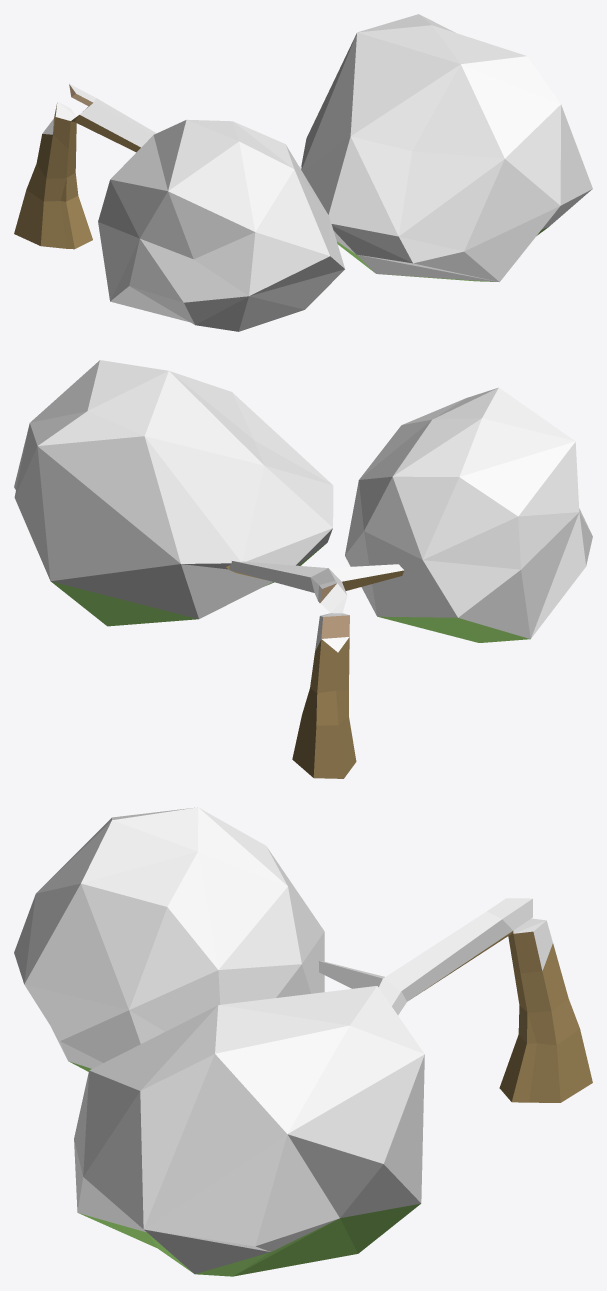
Rendered from Oak_Tree_crk_l_Snow_BT_04.fbx.
3 views of the same model, one above another, from view 1: azimuth 30°, elevation 25°; view 2: azimuth 150°, elevation 25°; view 3: azimuth 270°, elevation 25° (orthographic). The views are drawn at different scales.
Parts seen in each view (by area): view 1: Oak_Tree_crk_l_Snow_BT_04; view 2: Oak_Tree_crk_l_Snow_BT_04; view 3: Oak_Tree_crk_l_Snow_BT_04.
Boxes of the visible parts, x1,y1,x2,y2 form: Oak_Tree_crk_l_Snow_BT_04: [14, 14, 592, 331]; Oak_Tree_crk_l_Snow_BT_04: [14, 360, 592, 778]; Oak_Tree_crk_l_Snow_BT_04: [14, 807, 592, 1276].
Bounding box in the file's own units: 950 × 411 × 774.
